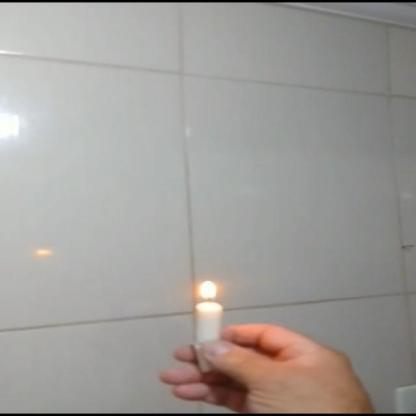fire: (196, 278, 222, 302)
